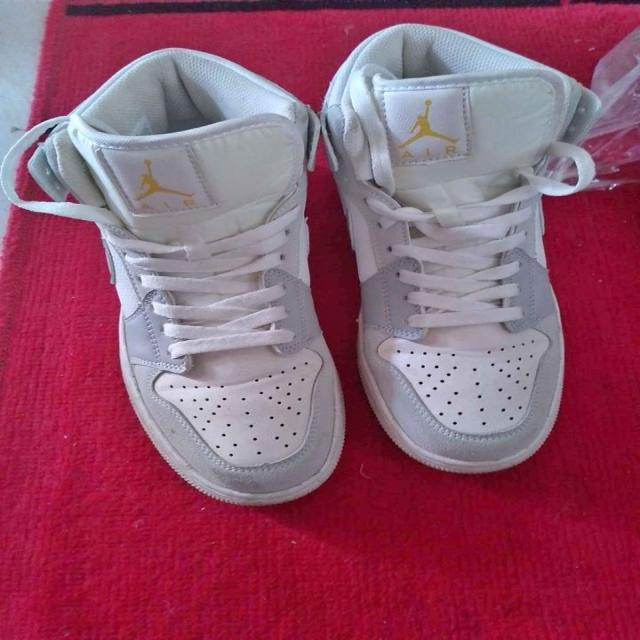nike fake jordan 1: (34, 45, 348, 506), (322, 19, 603, 474)
